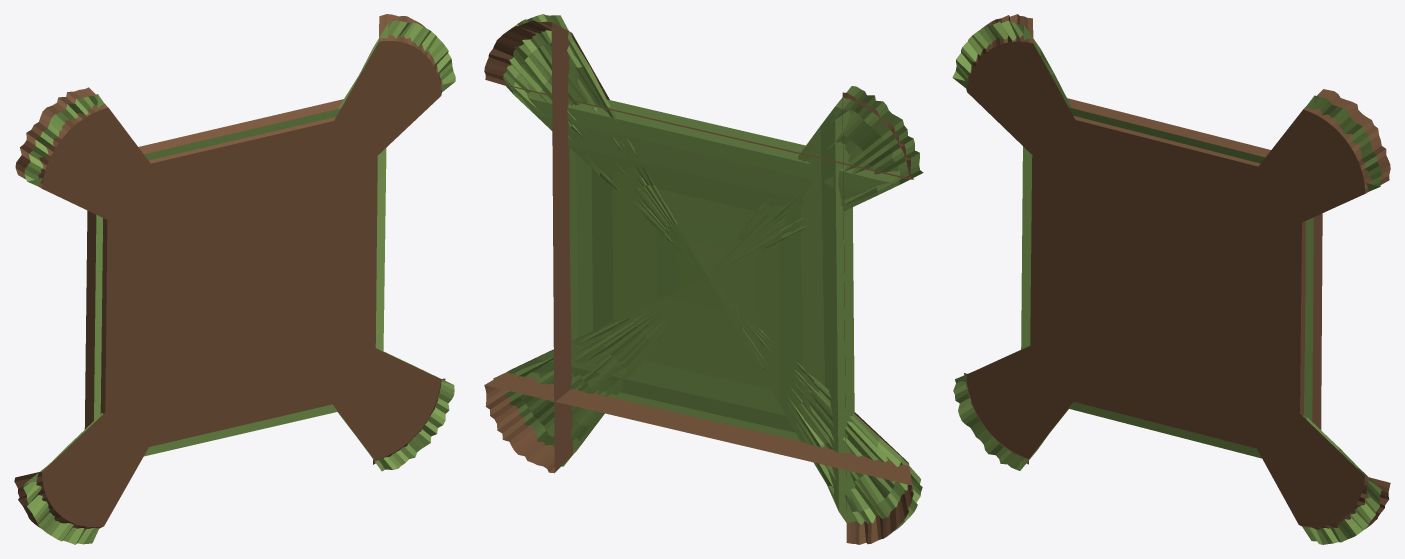
Rendered from ground.glb.
The picture shows the model from 3 angles, left to right: view 1: azimuth 30°, elevation 25°; view 2: azimuth 150°, elevation 25°; view 3: azimuth 330°, elevation 25°; orthographic projection.
Parts seen in each view (by area): view 1: Ground_Sides, Ground_Top; view 2: Ground_Top, Ground_Sides; view 3: Ground_Sides, Ground_Top.
Part boxes in pixels (left/top/right/bottom): Ground_Sides: left=14, top=14, right=445, bottom=529; Ground_Top: left=23, top=20, right=455, bottom=544; Ground_Top: left=493, top=14, right=923, bottom=531; Ground_Sides: left=484, top=20, right=913, bottom=544; Ground_Sides: left=964, top=14, right=1390, bottom=529; Ground_Top: left=952, top=20, right=1381, bottom=544.
Size of the model in its own units: 18 by 18 by 0.9493.
